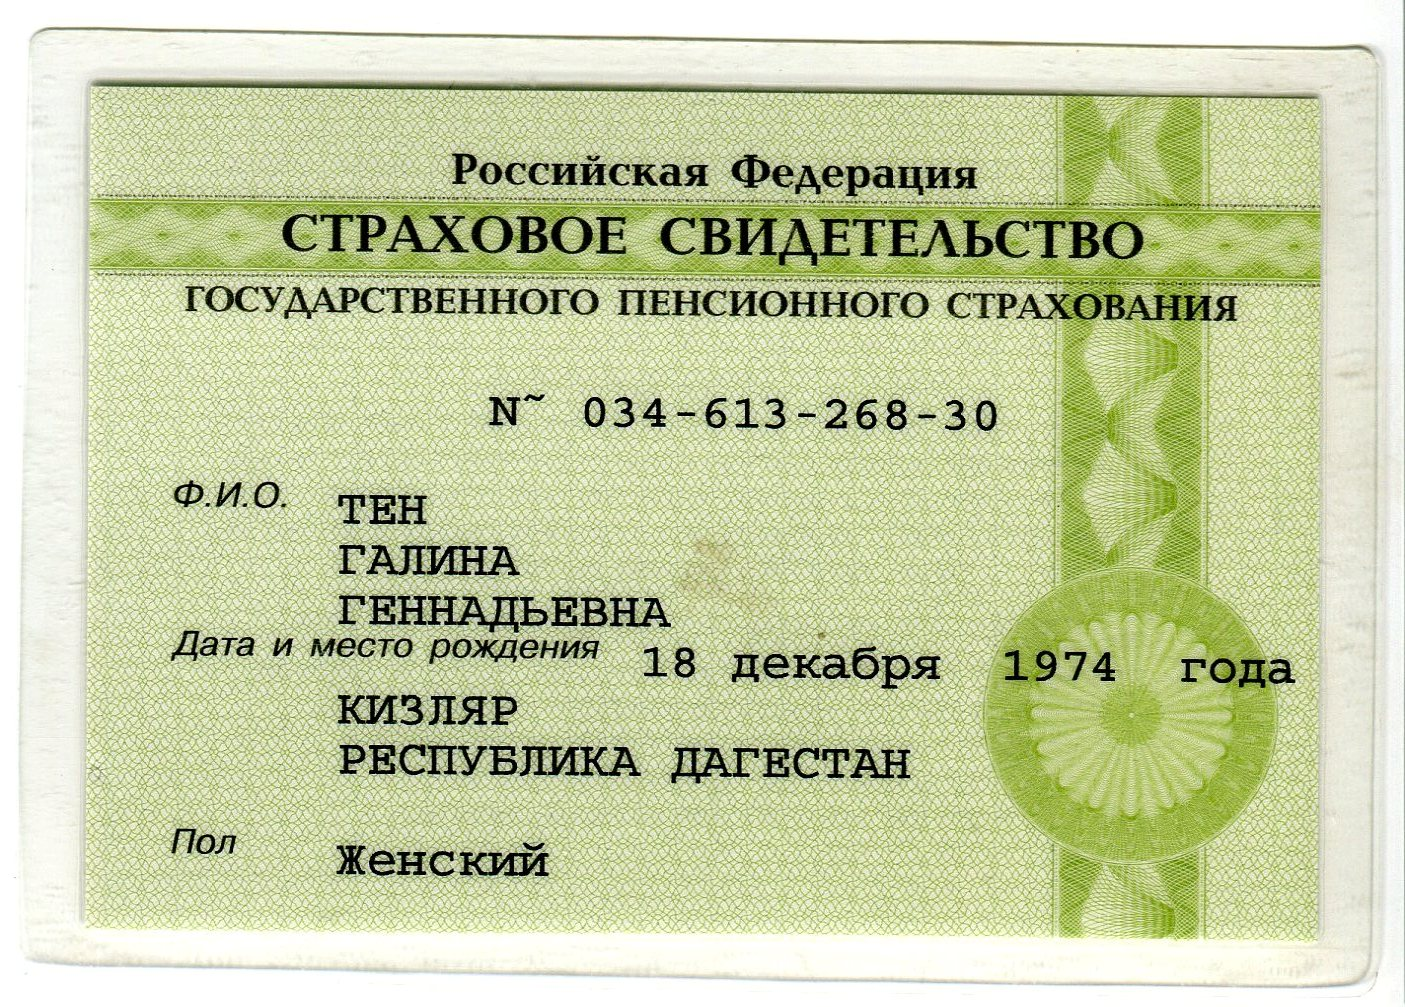text: (331, 683, 919, 794), (625, 640, 1300, 694), (576, 385, 1010, 436), (322, 586, 676, 636), (329, 830, 564, 887), (329, 534, 530, 582), (329, 483, 436, 536)
